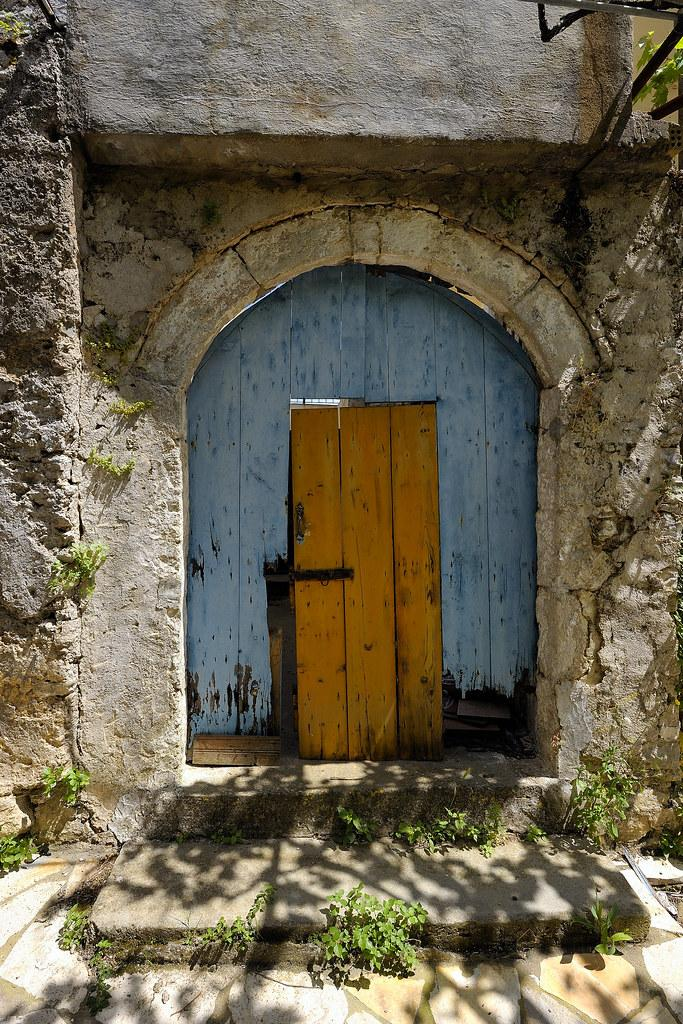door: (185, 263, 541, 766), (289, 401, 445, 763)
